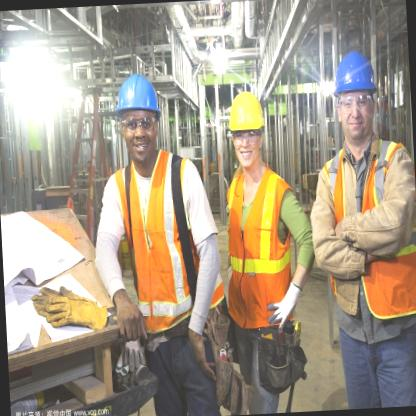capacete: (328, 46, 382, 142), (111, 70, 165, 166), (224, 89, 268, 172)
colete_refletivo: (96, 151, 224, 334), (306, 132, 415, 329), (219, 166, 306, 330)
